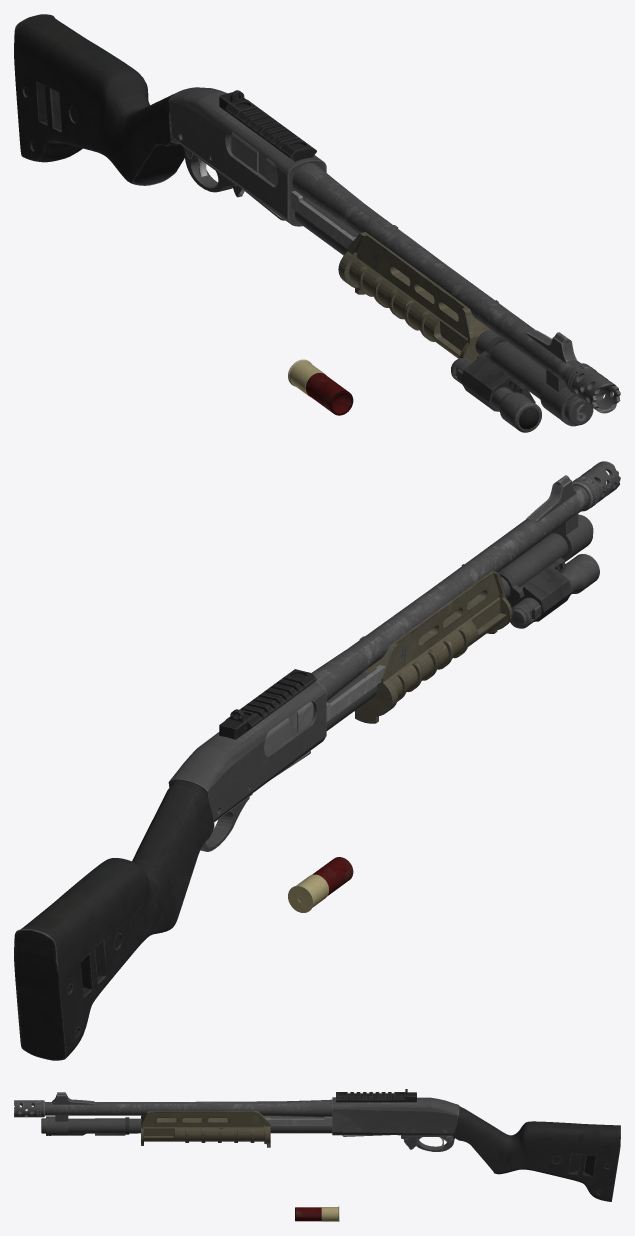
Rendered from hassault-weapon-shotgun.glb.
3 renders of one model, top to bottom at view 1: azimuth 30°, elevation 25°; view 2: azimuth 150°, elevation 25°; view 3: azimuth 270°, elevation 25°, orthographic. The views are drawn at different scales.
Visible parts, largest first — view 1: Remmington_870_Express_Tactical, 12_Gauge_Shell; view 2: Remmington_870_Express_Tactical, 12_Gauge_Shell; view 3: Remmington_870_Express_Tactical, 12_Gauge_Shell.
Part boxes in pixels (x1,y1,x2,y2): Remmington_870_Express_Tactical: (14, 14, 620, 432); 12_Gauge_Shell: (288, 359, 353, 415); Remmington_870_Express_Tactical: (14, 461, 620, 1060); 12_Gauge_Shell: (288, 857, 353, 912); Remmington_870_Express_Tactical: (14, 1089, 620, 1201); 12_Gauge_Shell: (295, 1206, 339, 1221).
Size of the model in its own units: 0.2032 by 0.6954 by 2.9.
2 materials, 2 textured.
